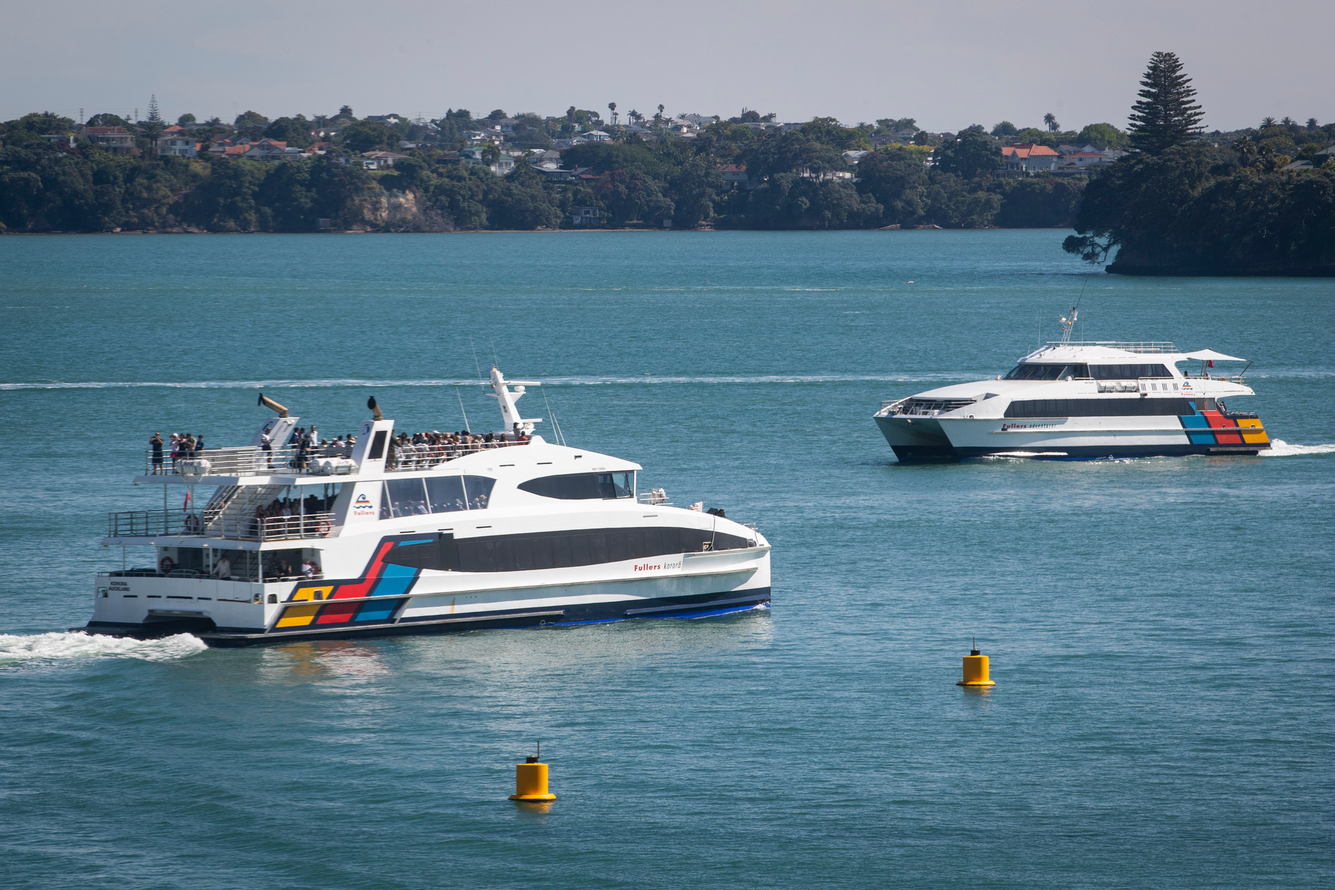ferry: (86, 369, 775, 646), (870, 303, 1273, 481)
